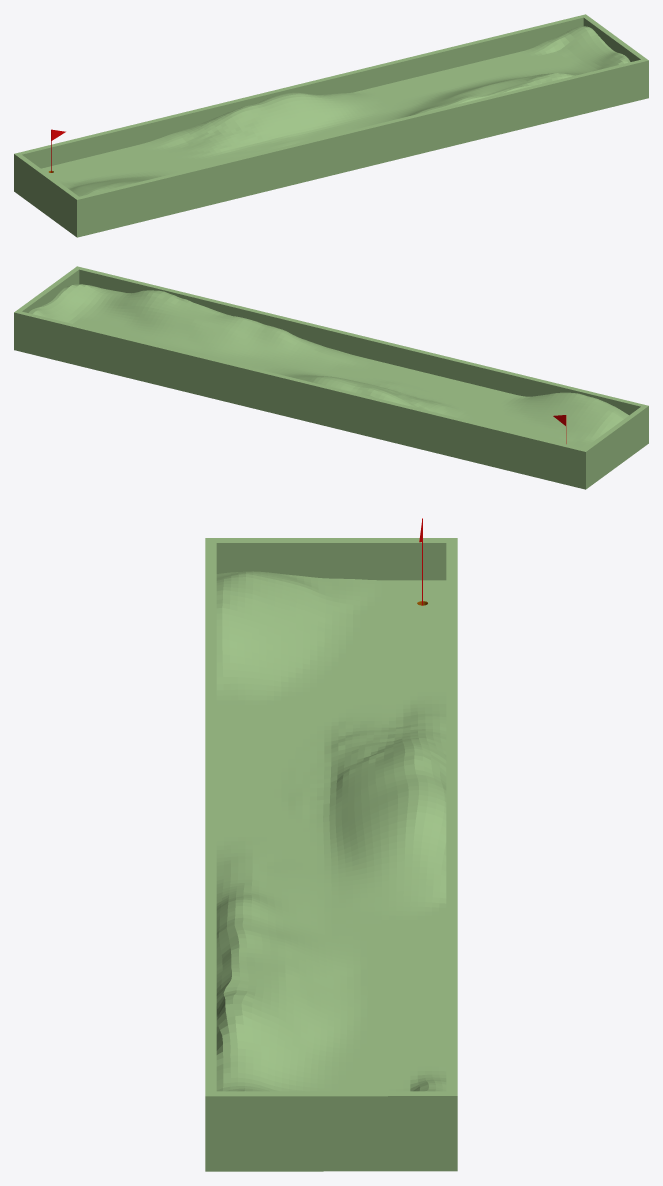
The model's file is level_6.glb.
3 views of the same model, one above another, from view 1: azimuth 30°, elevation 25°; view 2: azimuth 150°, elevation 25°; view 3: azimuth 270°, elevation 25° (orthographic). The views are drawn at different scales.
Parts seen in each view (by area): view 1: green; view 2: green; view 3: green.
Boxes of the visible parts, box(x1,y1,x2,y2) form: green: box(14, 14, 648, 237); green: box(14, 266, 648, 489); green: box(205, 538, 457, 1171).
Size of the model in its own units: 11.5 by 1.18 by 2.2.
